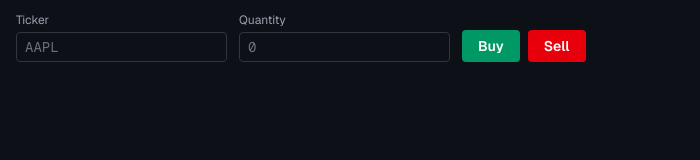
Scenario: TradeBar › Test 3b: a 404 (unknown ticker) renders an inline error message
Type "NOPE" into the field labelled "Ticker" at (122,47), box [16,32,227,62]
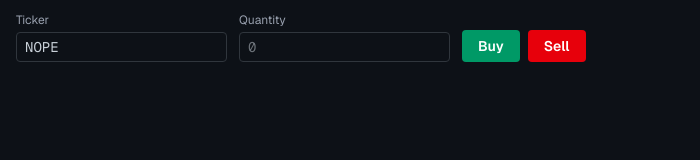
Type "5" into the number field labelled "Quantity" at (344,47), box [239,32,450,62]
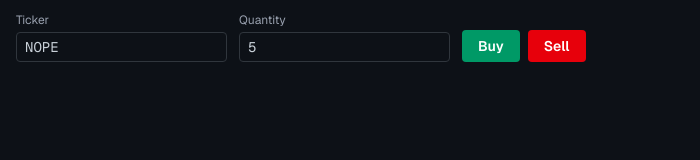
Click the button "Buy" at (491,46), box [462,30,520,62]
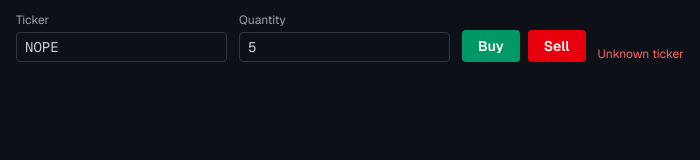
Now the text "Unknown ticker" is shown, box [598,46,684,62]
